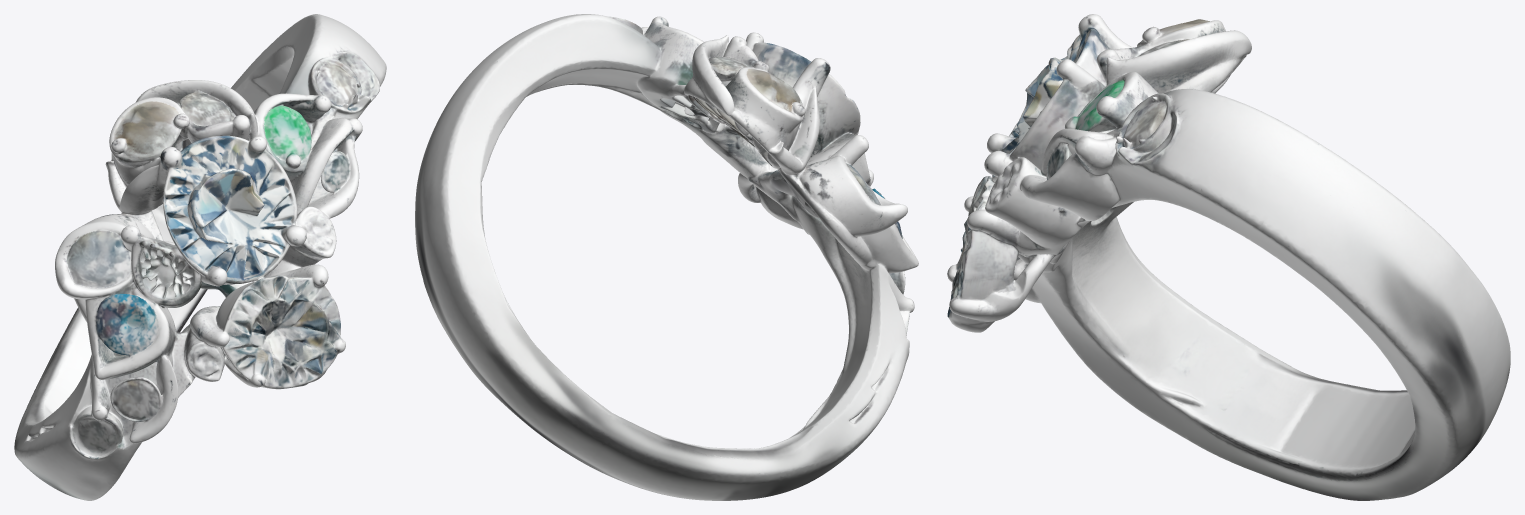
The picture shows the model from 3 angles, left to right: view 1: azimuth 30°, elevation 25°; view 2: azimuth 150°, elevation 25°; view 3: azimuth 270°, elevation 25°; orthographic projection. The views are drawn at different scales.
Size of the model in its own units: 0.8614 by 0.863 by 0.872.
Materials: 1 (1 with a texture image).
